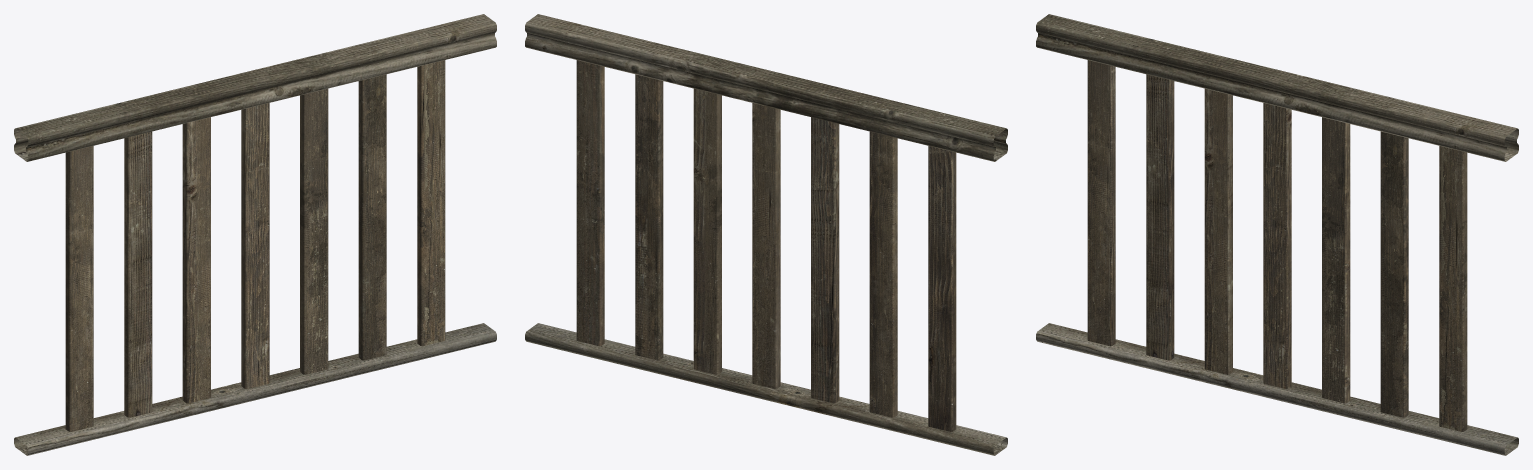
The model's file is Barier_el3.fbx.
3 views of the same model, side by side, from view 1: azimuth 30°, elevation 25°; view 2: azimuth 150°, elevation 25°; view 3: azimuth 330°, elevation 25° (orthographic).
Visible parts, largest first — view 1: polySurface223; view 2: polySurface223; view 3: polySurface223.
Part boxes in pixels (bbox=[...]): polySurface223: bbox=[14, 14, 496, 455]; polySurface223: bbox=[525, 14, 1007, 455]; polySurface223: bbox=[1036, 14, 1518, 455].
Size of the model in its own units: 200 by 130 by 10.48.
Materials: 1 (1 with a texture image).
